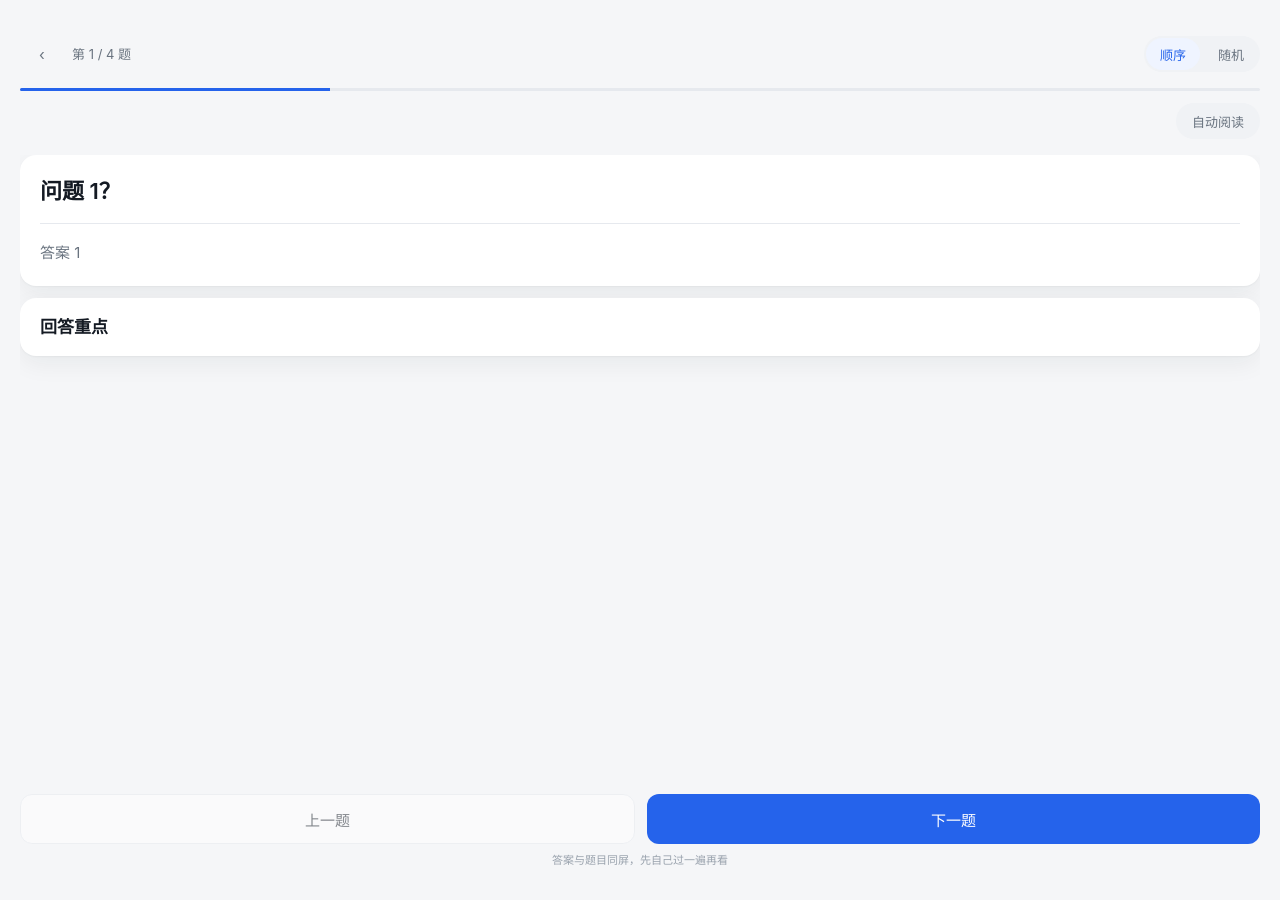
Recite · 边界 › 点「下一题」前进一题，并把进度写回服务端
Expected: the text "第 1 / 4 题" is shown, [72,46,131,62]
Click the button "下一题" at (954, 819), box [647,794,1260,844]
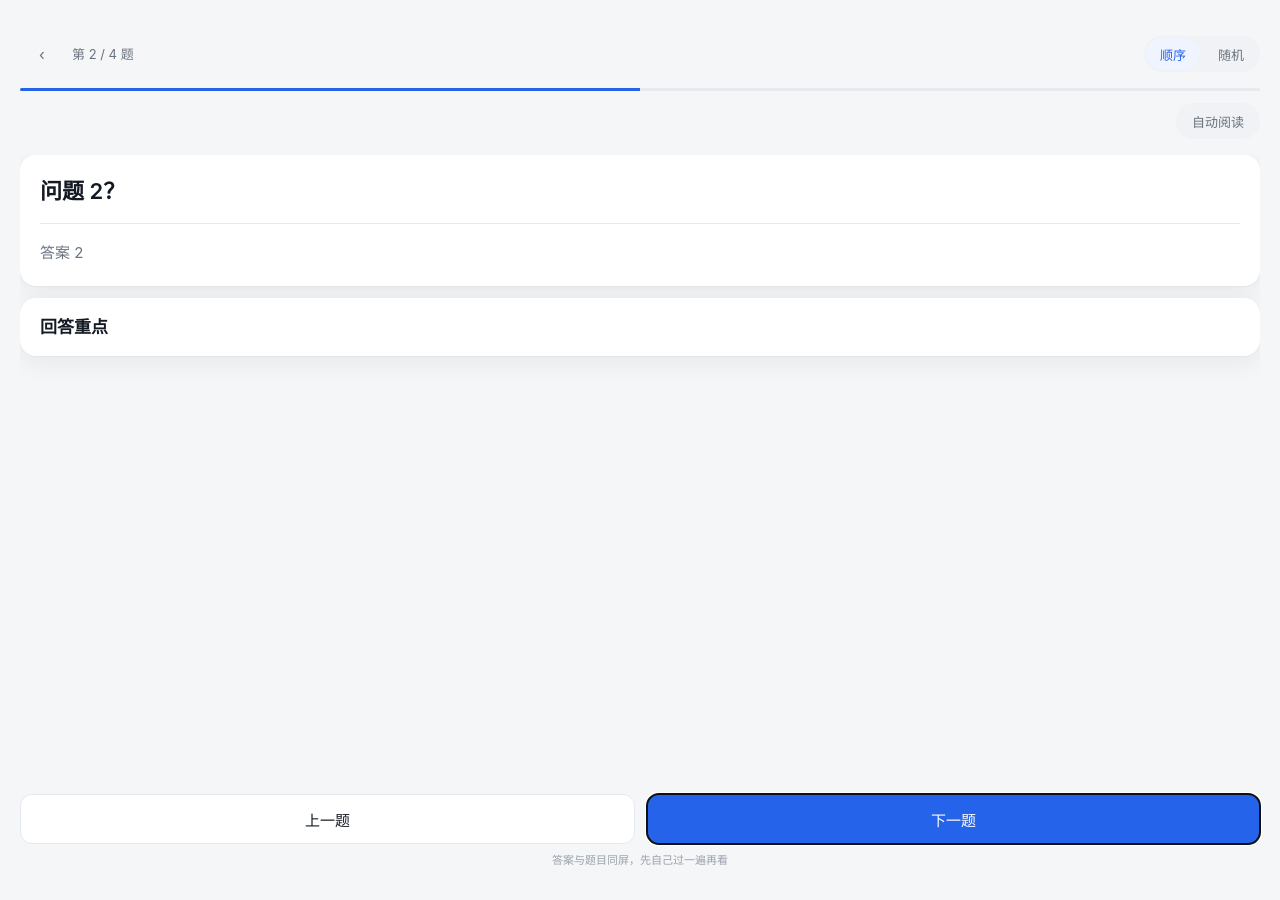
Result: the text "第 2 / 4 题" is shown at [72,46,134,62]
Result: the button "上一题" is enabled at [20,794,635,844]
